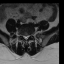CCS_normal: (25, 34, 27, 41)
LFS_severe_stenosis: (29, 33, 31, 37)
LLS_stenosis: (27, 33, 29, 39)
RFS_severe_stenosis: (21, 33, 23, 38)
RLS_normal: (23, 34, 25, 40)
